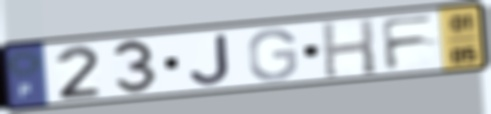2: (52, 43, 104, 101)
3: (110, 37, 161, 98)
F: (378, 12, 440, 72)
G: (245, 27, 300, 83)
H: (318, 17, 380, 80)
J: (188, 32, 234, 87)
